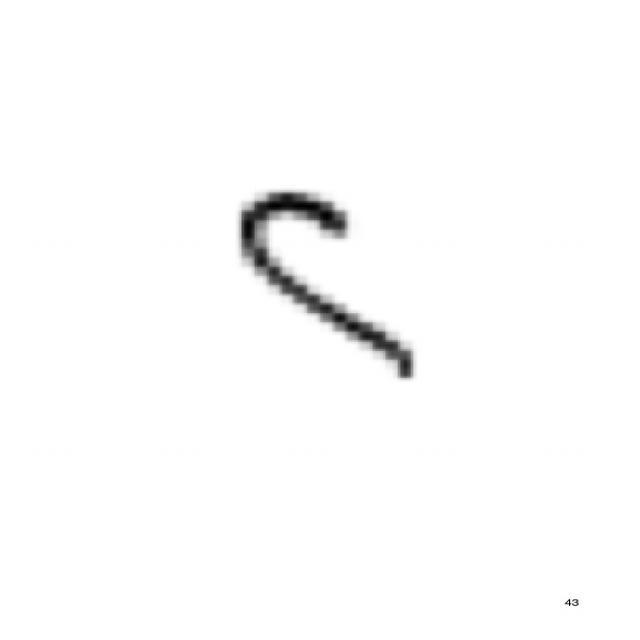2 -two-: (218, 179, 438, 384)
